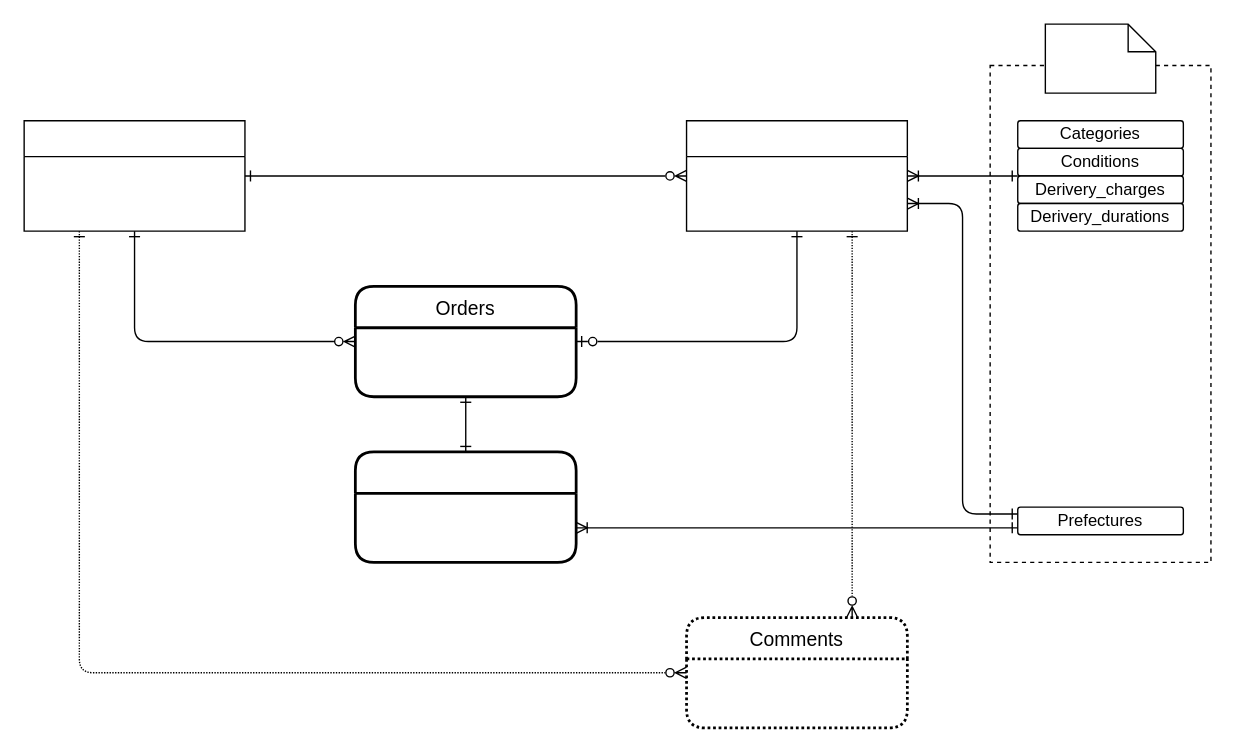
This 1235x753 diagram has some shape labels left out. The shapes that lost their labels are listed below. From the top down, each one's centre as x and y in pixels, then its label:
(1100,58): ActiveHash Models
(134,175): Users
(796,175): Items
(465,506): Addresses
